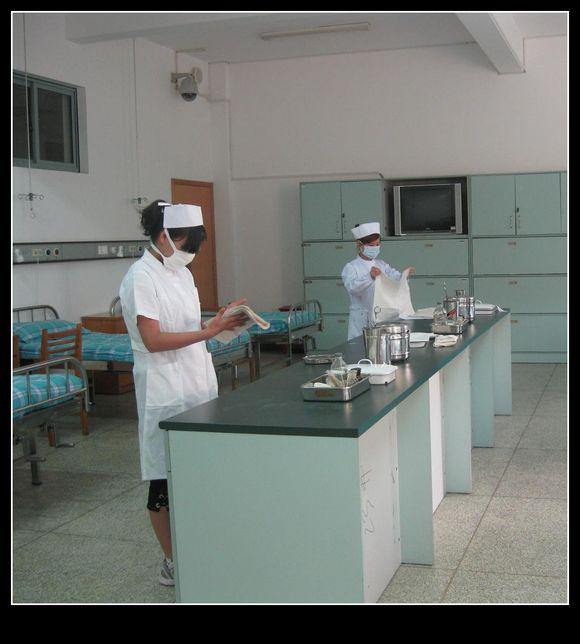OK: (159, 233, 197, 275), (359, 239, 381, 260)
